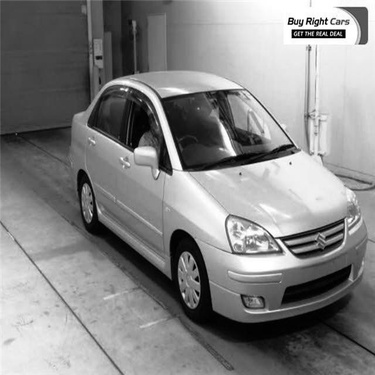car: (60, 56, 367, 330)
